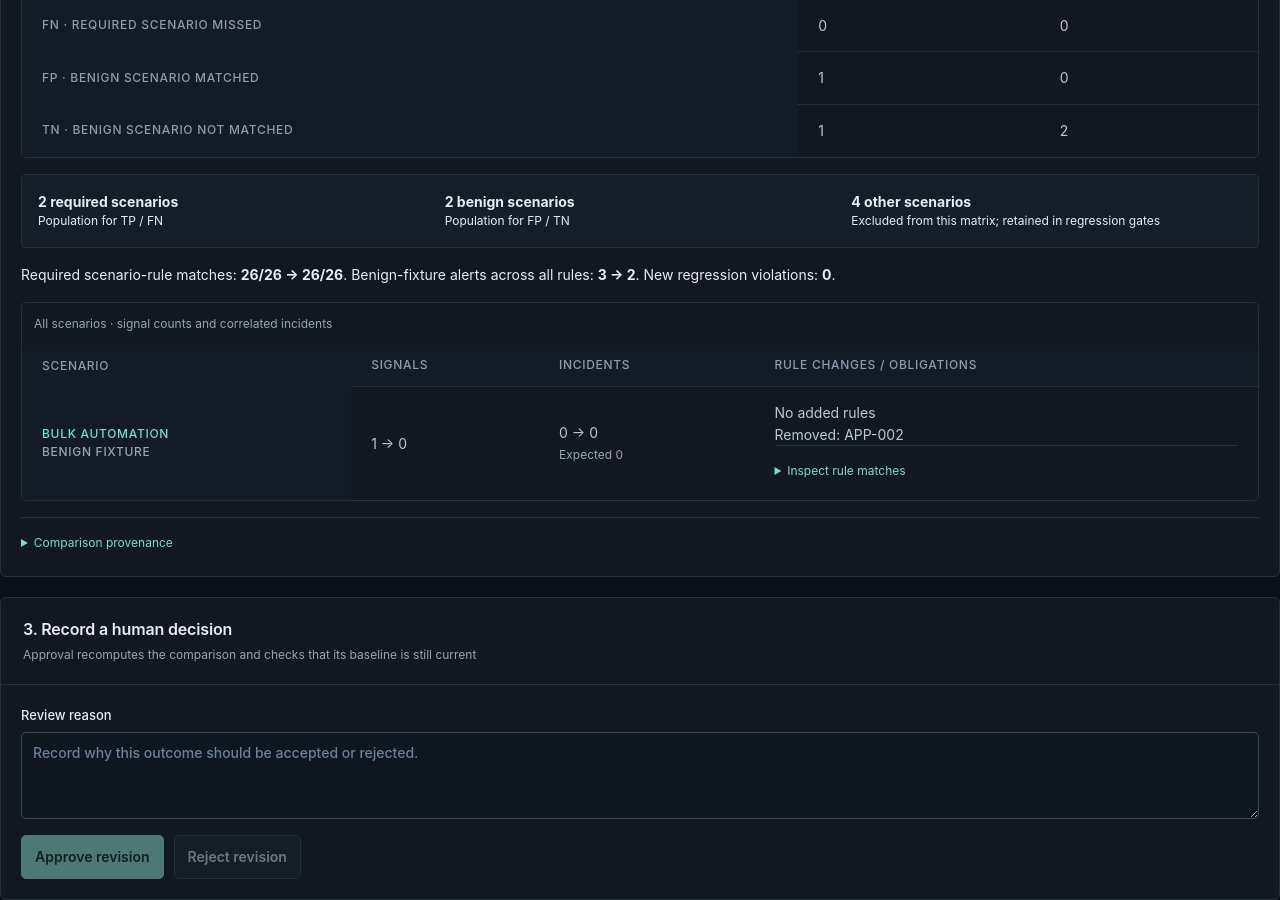
Test case: detection workbench › does not offer to repeat a saved decision when the following refresh fails
(page scrolled)
Type "Reviewed fixture tradeoffs" into the text box labelled "Review reason" at (640, 776), box [21, 732, 1259, 819]
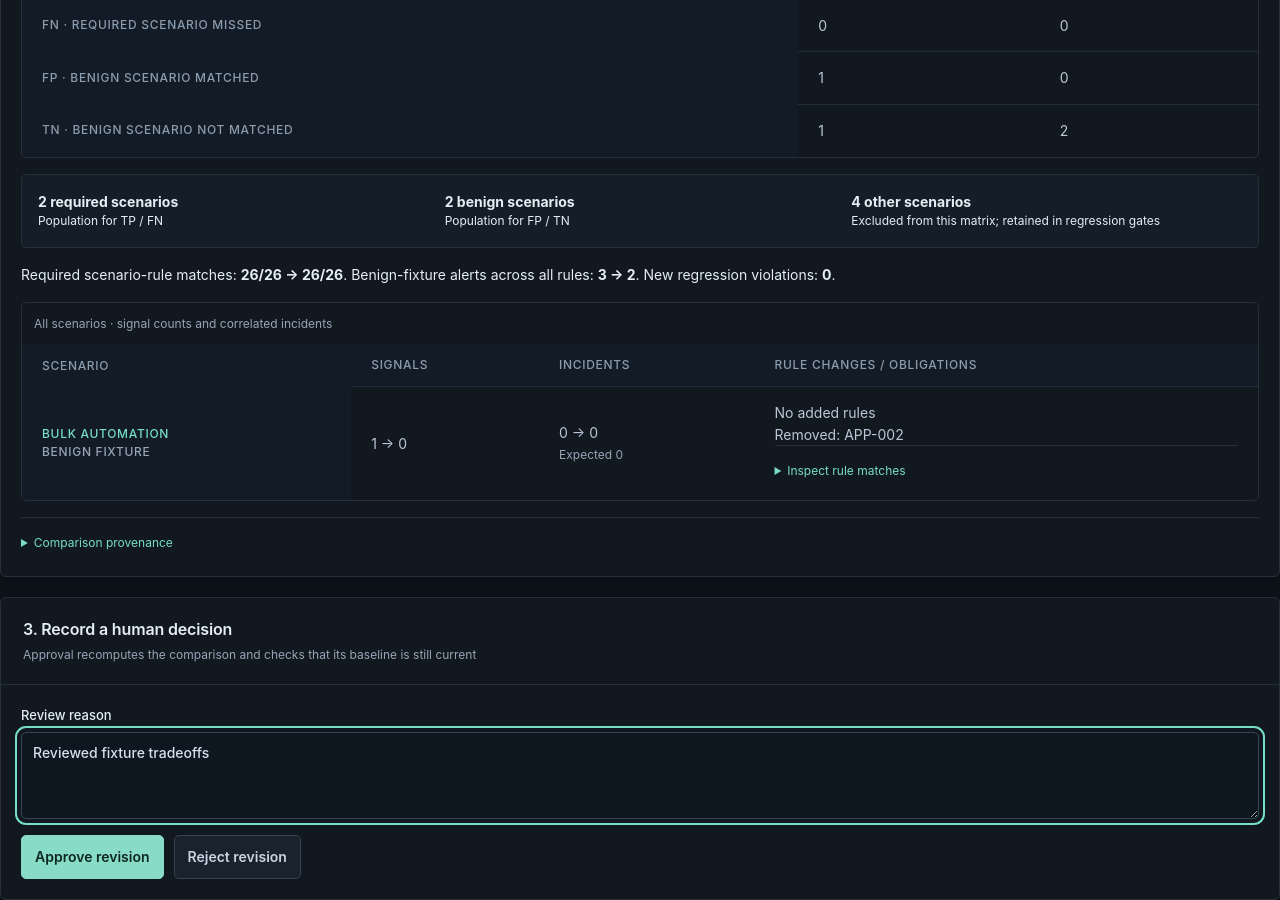
Click the button "Approve revision" at (92, 857), box [21, 835, 164, 879]
(page scrolled)
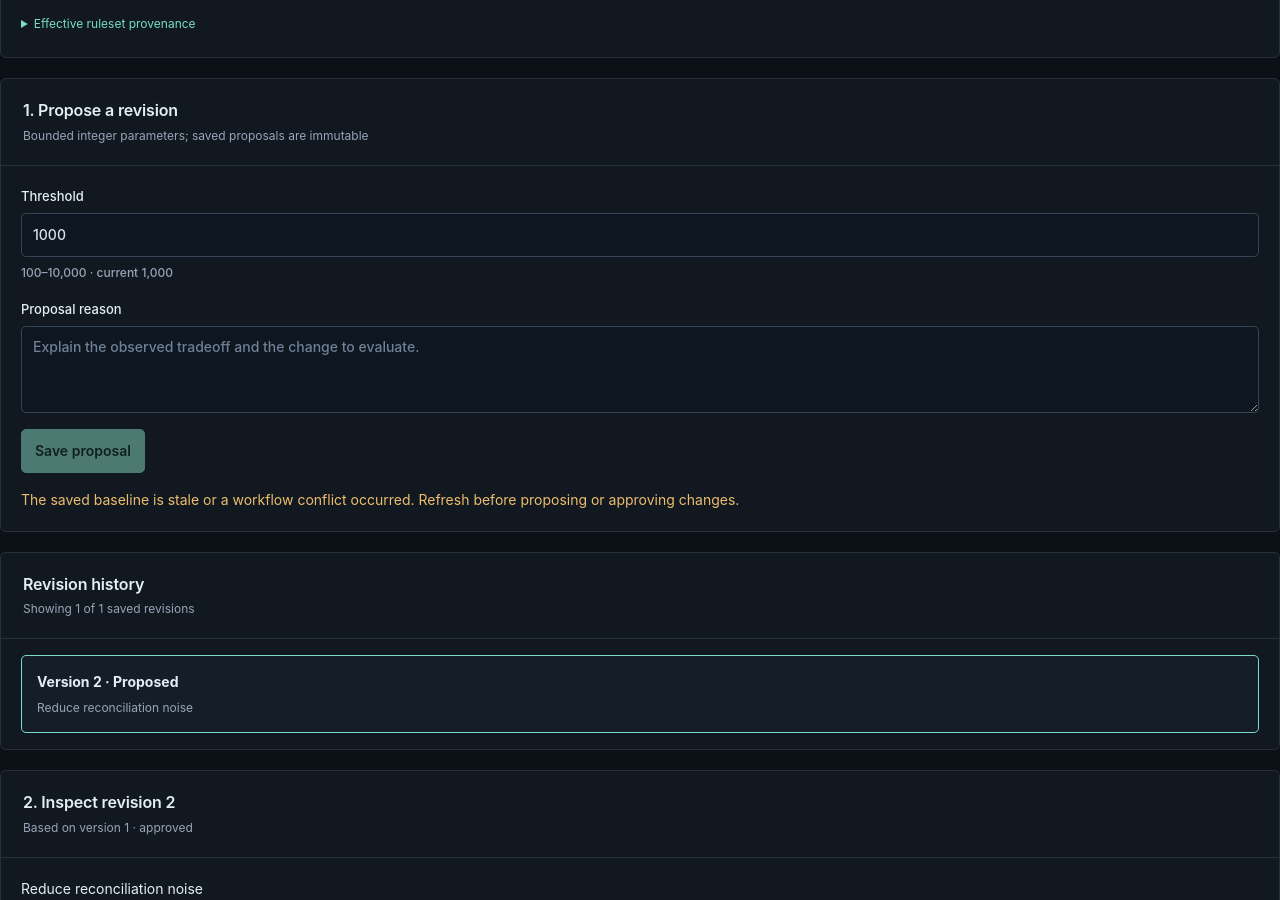
Expected: the button "Save proposal" is disabled, [21, 429, 145, 473]
Now the button "Approve revision" is gone
